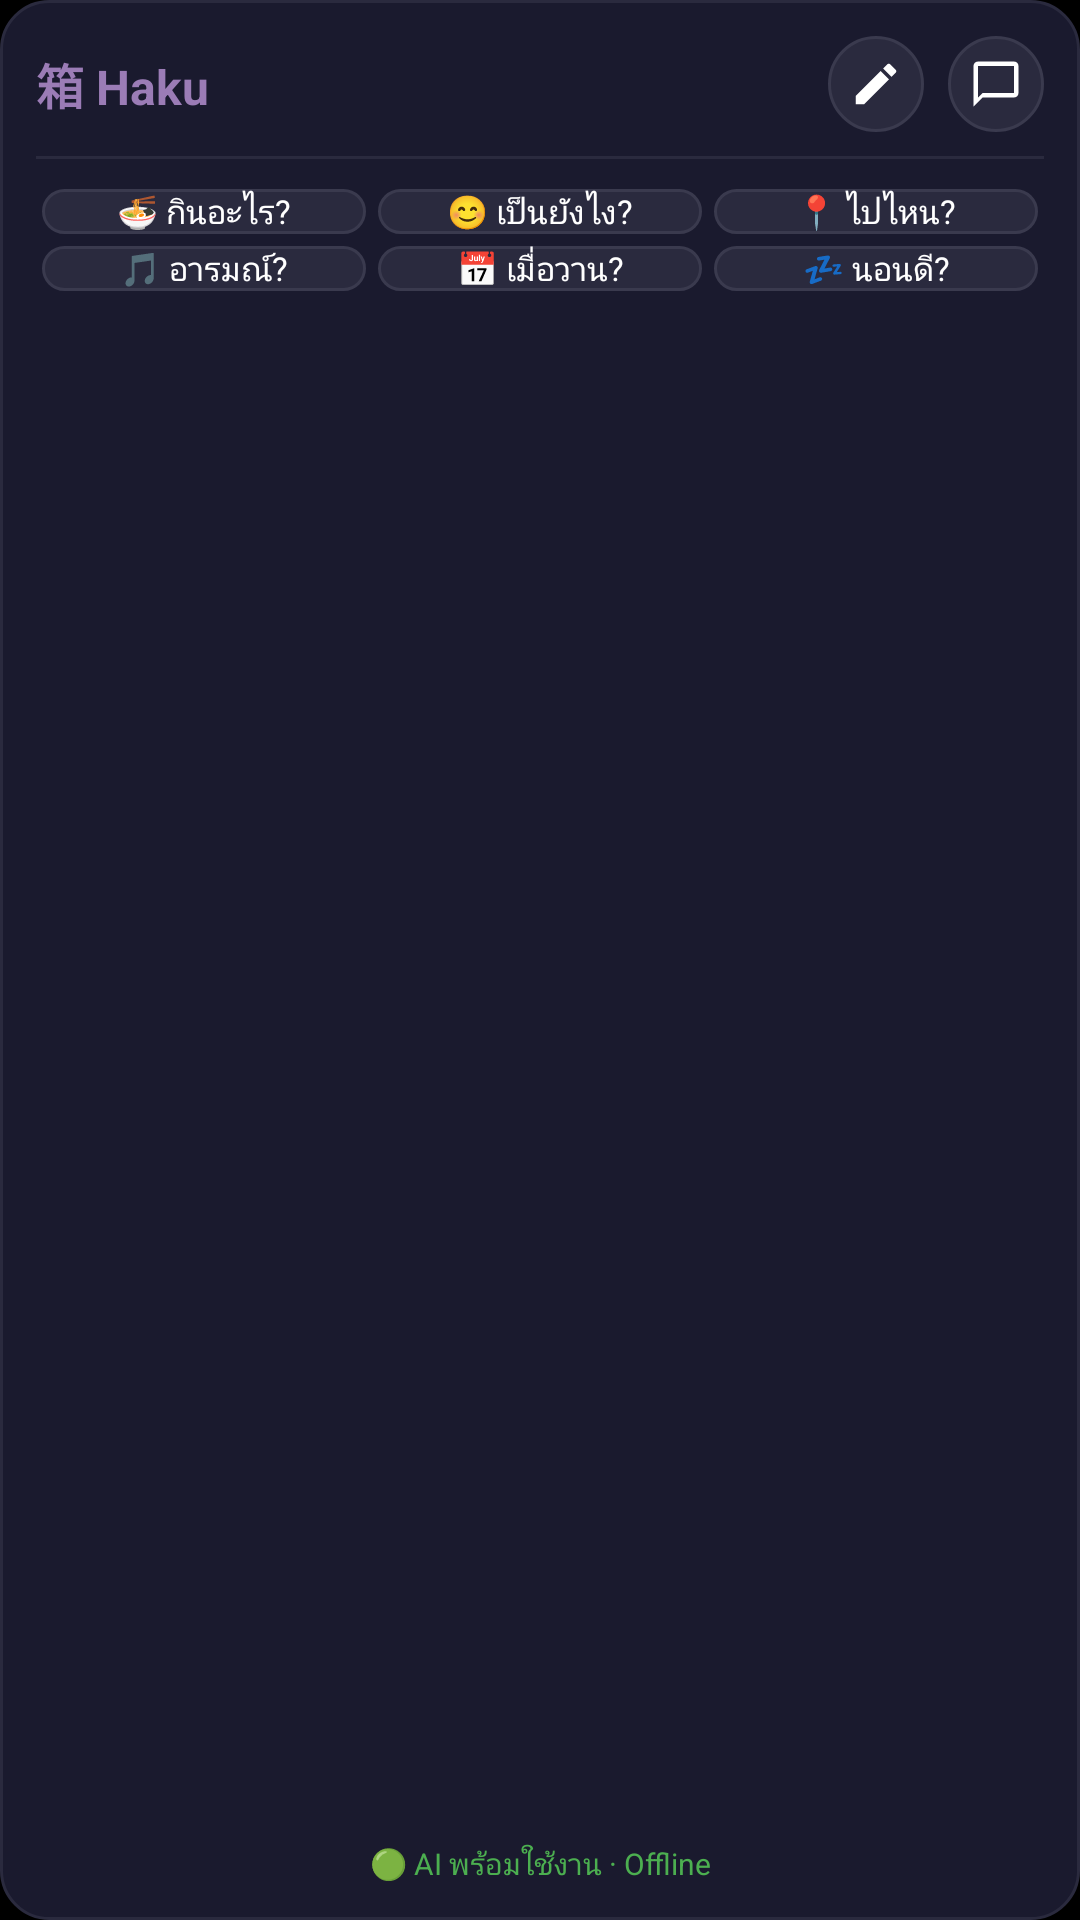

Icon click points for this 1080 × 1920 phone screenshot, format point (x, y):
เขียนบันทึก: point (876, 84)
